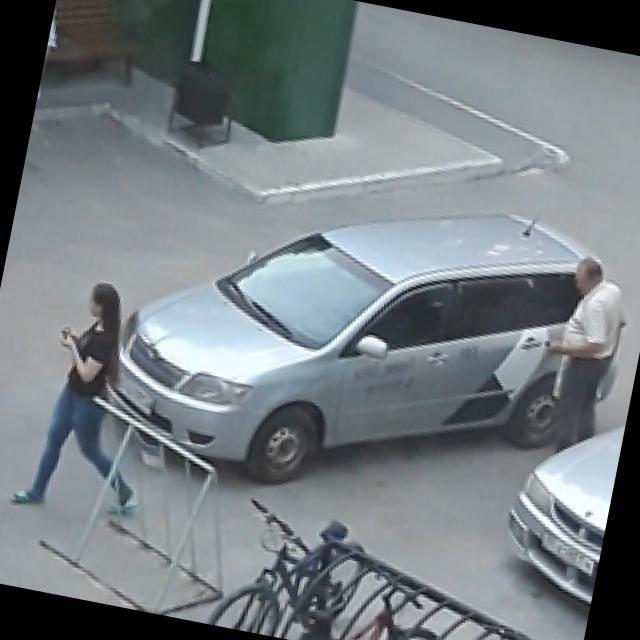person: (9, 270, 178, 526), (526, 253, 638, 464)
